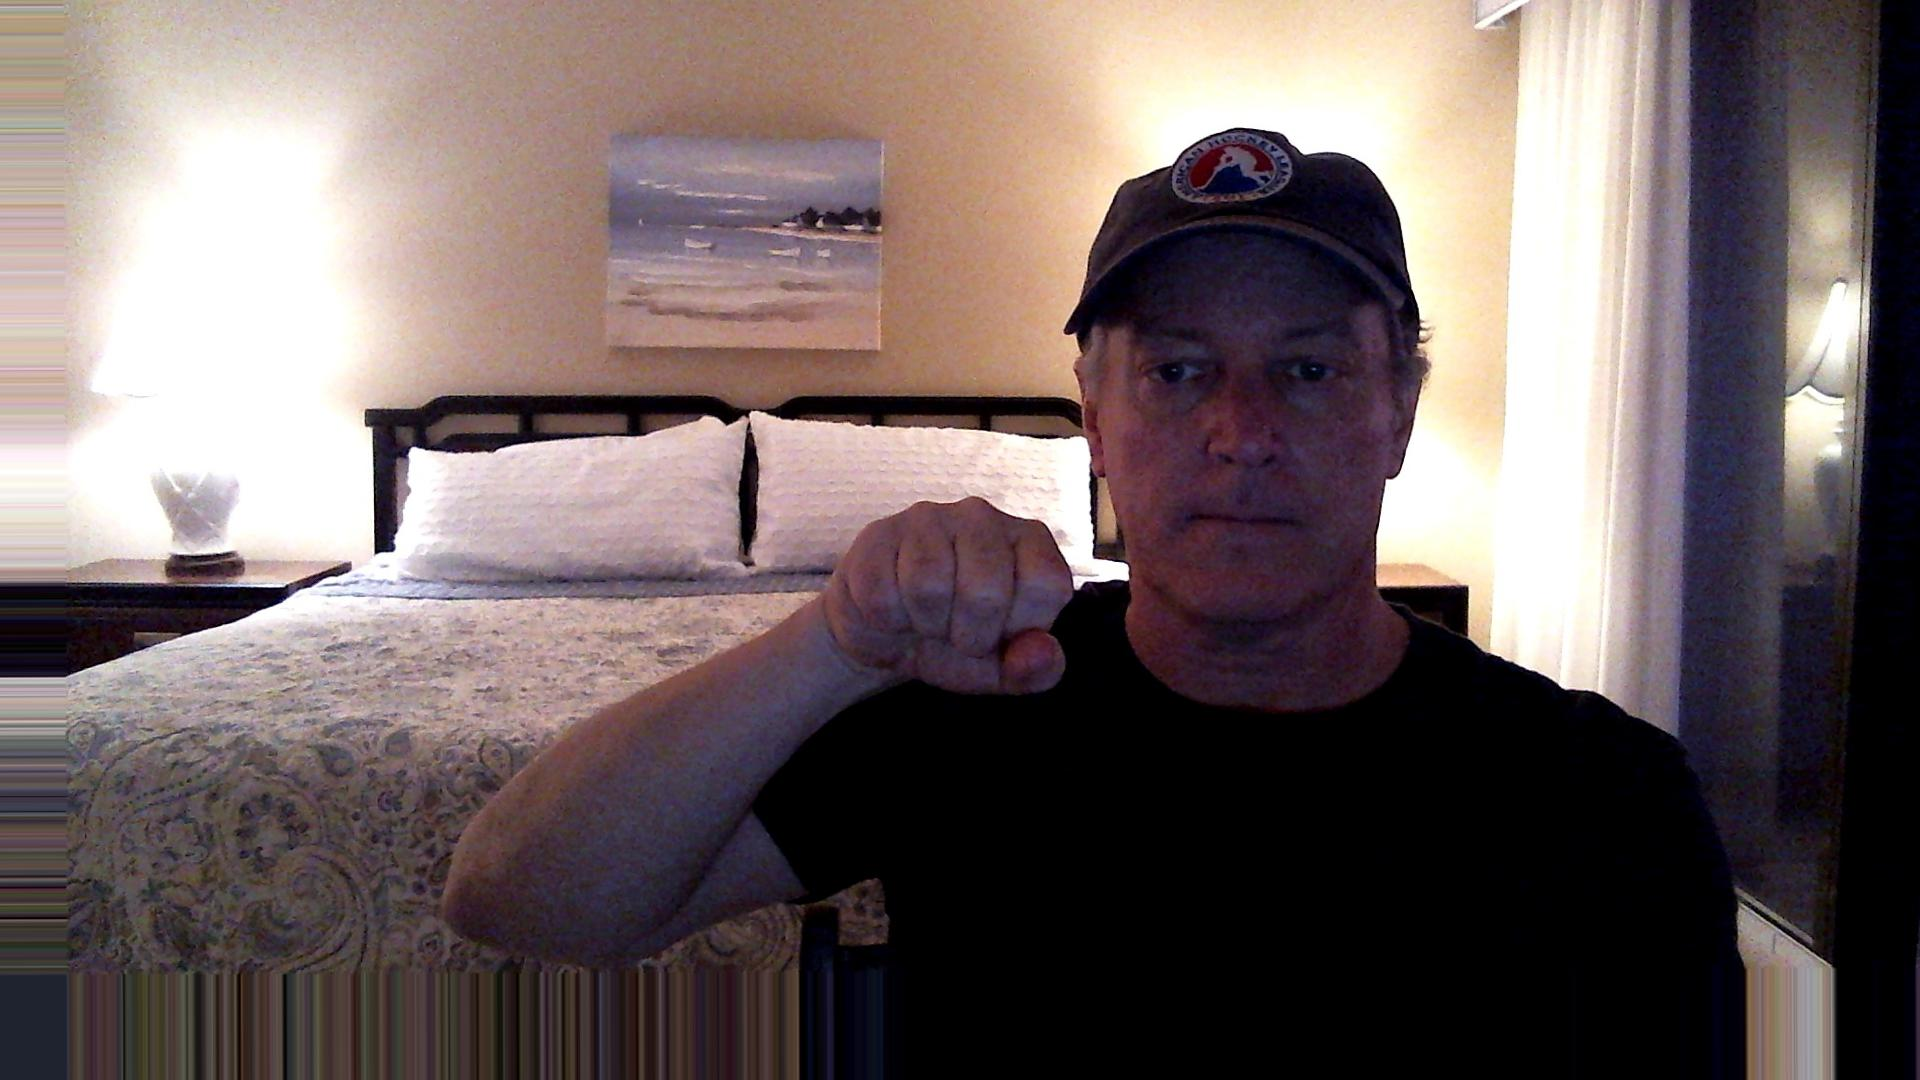Yes: (800, 473, 1106, 732)
